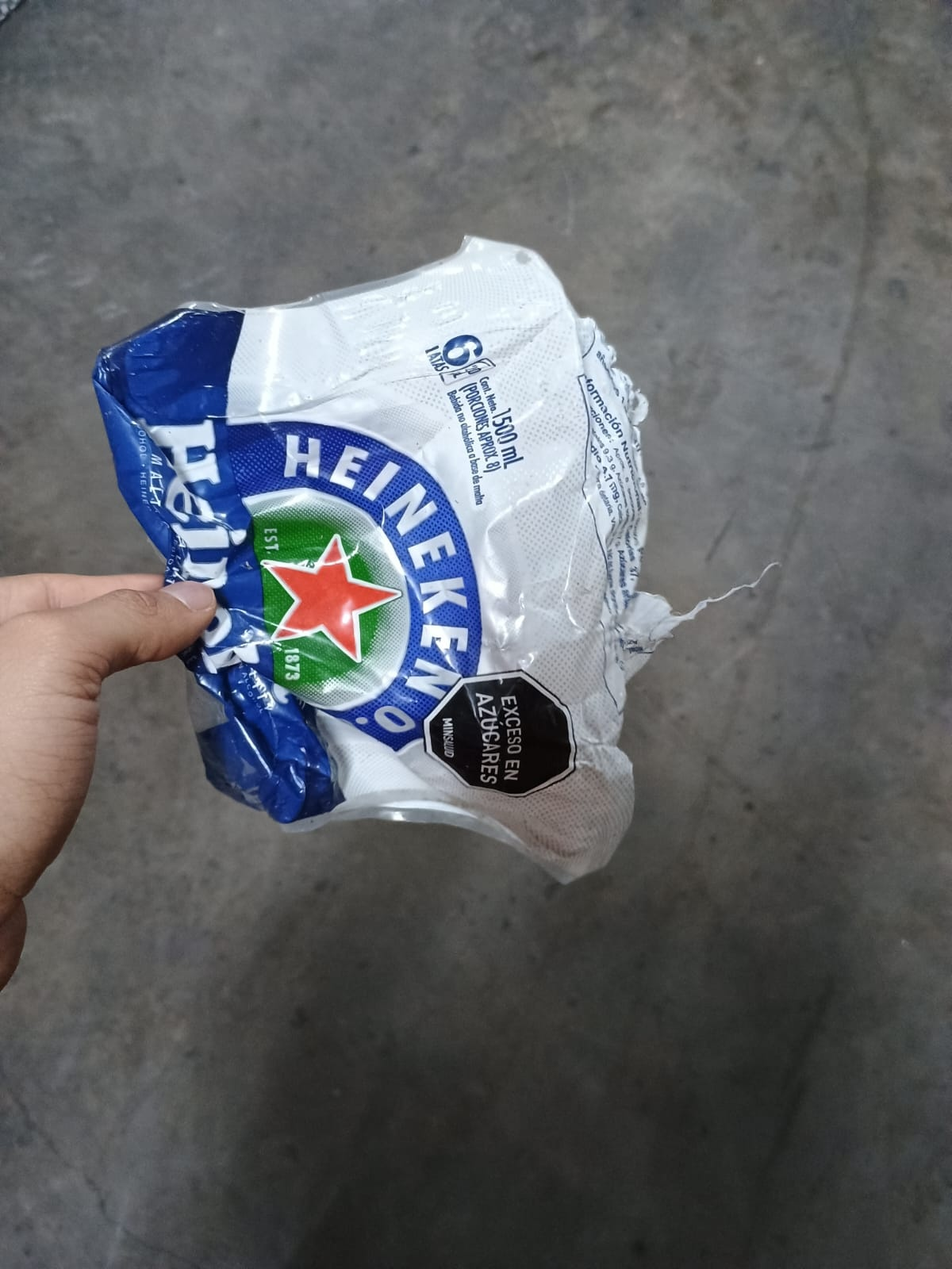Ordinario: (96, 237, 650, 892)
